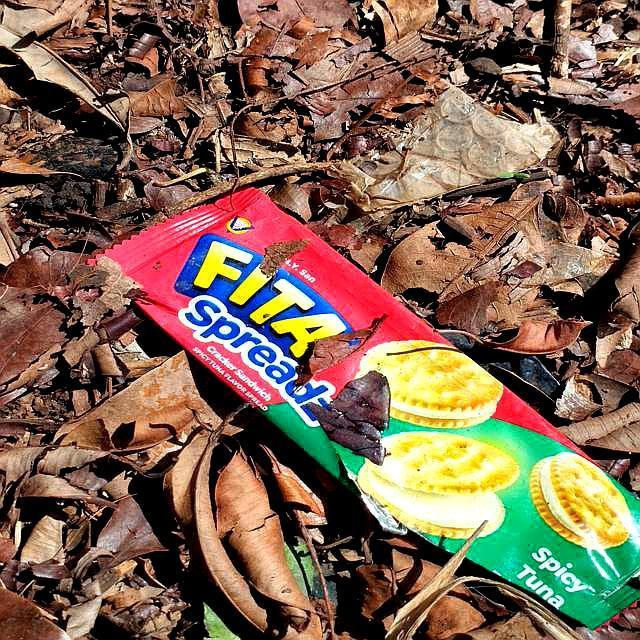Non-biodegradable: (71, 181, 640, 640)
